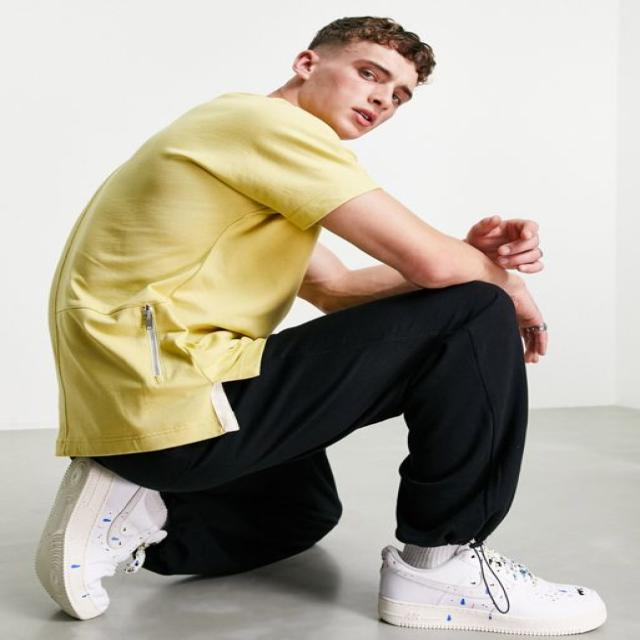tshirt: (45, 89, 380, 459)
